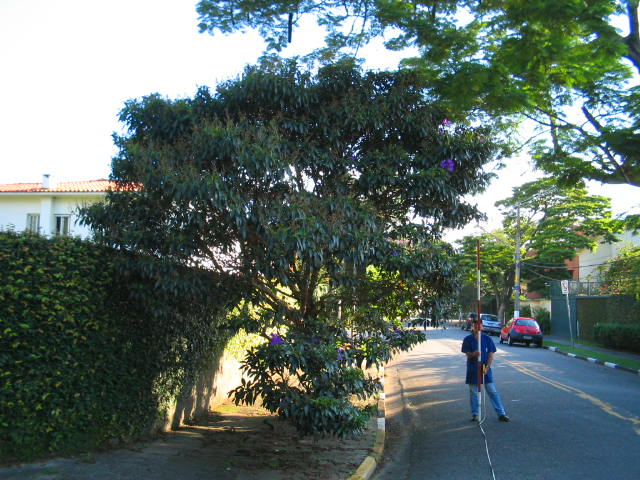stick: (472, 239, 486, 422)
